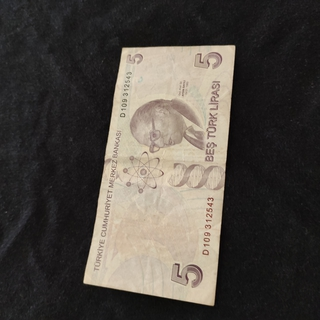5TLBack: (82, 45, 236, 307)
